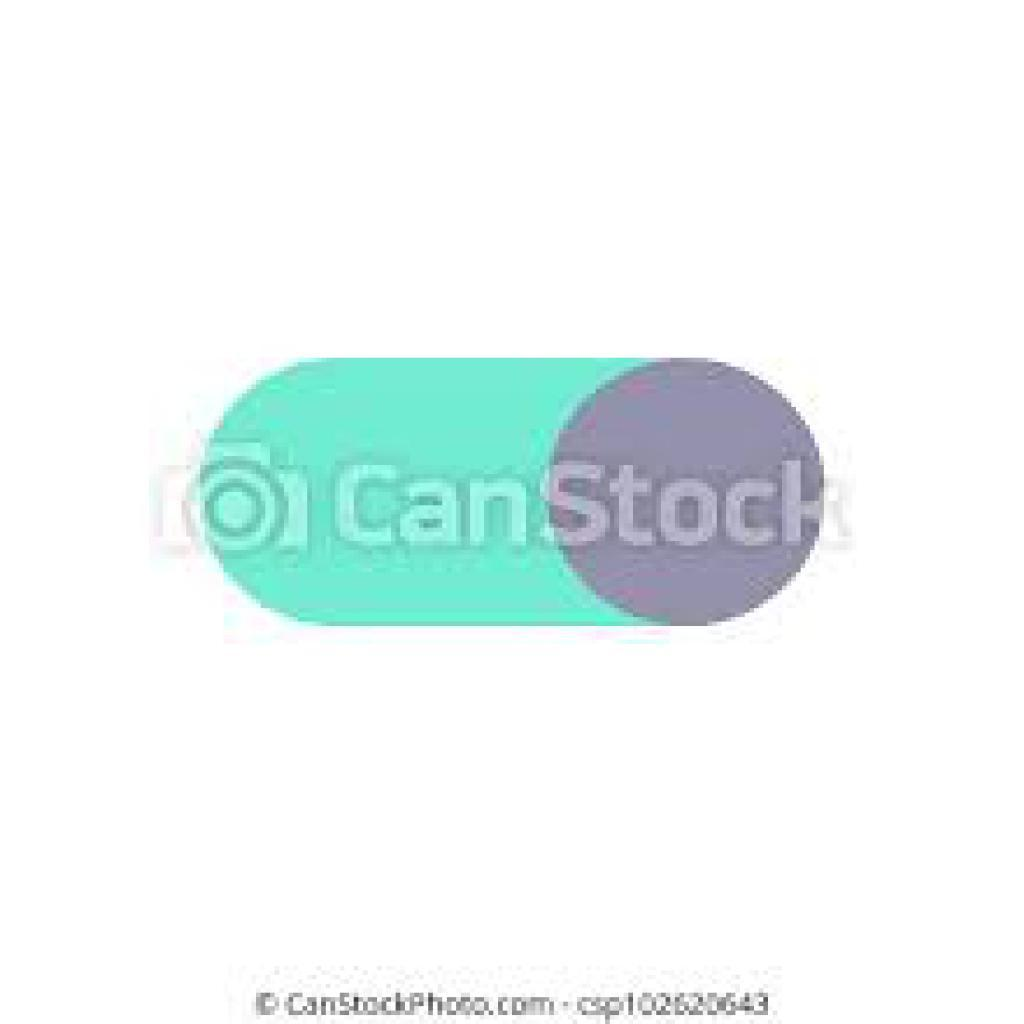switch: (190, 345, 833, 634)
